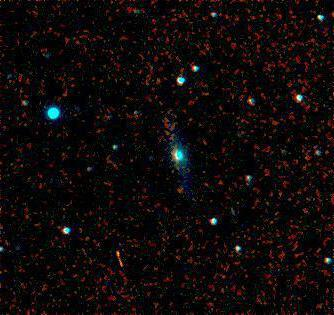star: (289, 196, 319, 226)
